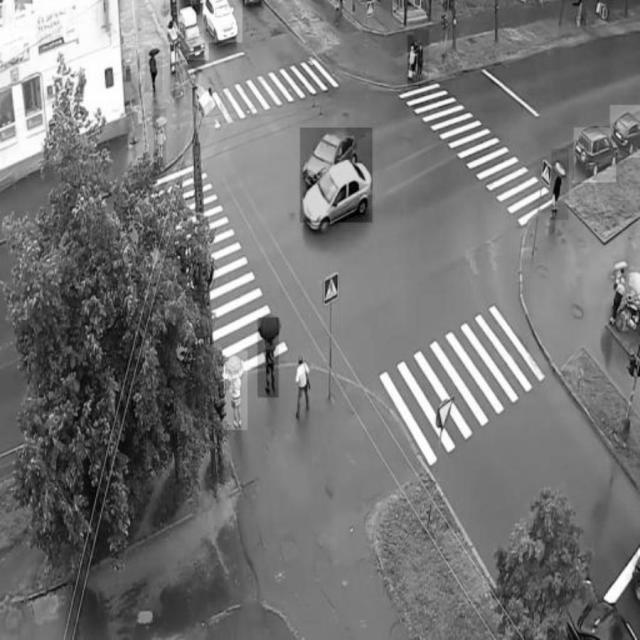accident: (301, 127, 373, 223)
person: (224, 350, 248, 430), (258, 319, 278, 399), (297, 345, 315, 416), (552, 149, 569, 220), (614, 263, 628, 330), (414, 30, 429, 85), (408, 35, 423, 86), (154, 109, 166, 170), (145, 50, 162, 92)
vehicle: (575, 128, 617, 183), (199, 1, 243, 43), (610, 106, 640, 158), (179, 15, 209, 60)
